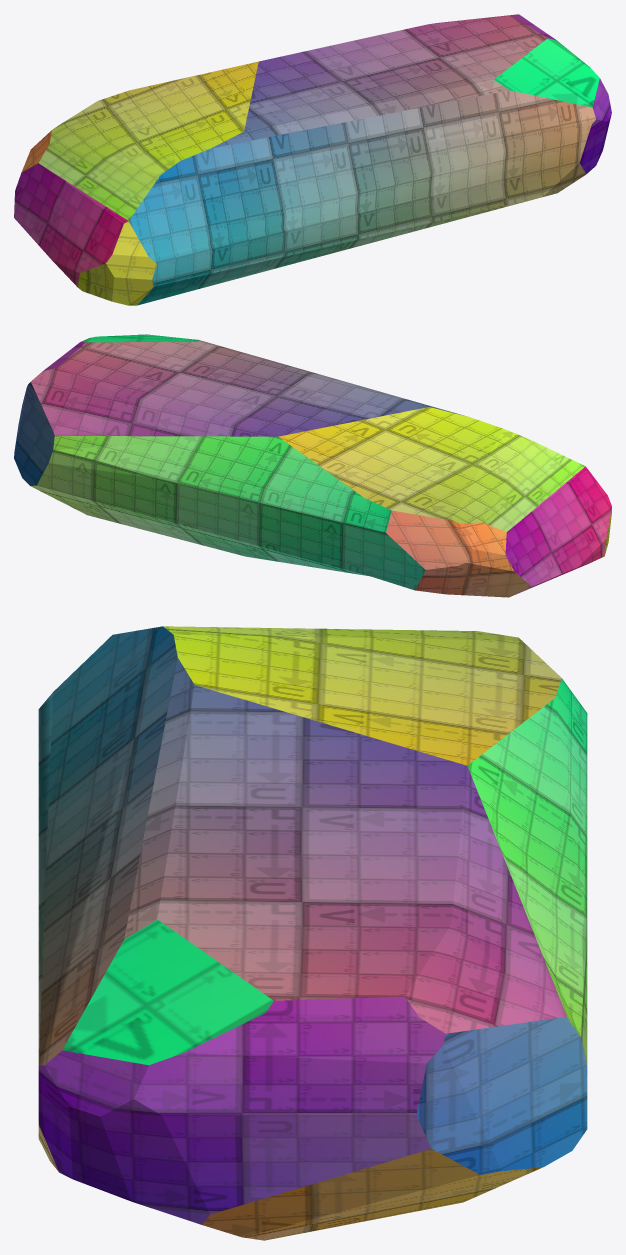
Rendered from Rock4Redo_Hite.obj.
3 renders of one model, top to bottom at view 1: azimuth 30°, elevation 25°; view 2: azimuth 150°, elevation 25°; view 3: azimuth 270°, elevation 25°, orthographic. The views are drawn at different scales.
Visible parts, largest first — view 1: pCube1; view 2: pCube1; view 3: pCube1.
Boxes of the visible parts, bbox=[...] form: pCube1: bbox=[14, 14, 611, 305]; pCube1: bbox=[14, 334, 611, 597]; pCube1: bbox=[38, 626, 587, 1240].
Size of the model in its own units: 21.47 by 4.77 by 9.76.
1 material, 1 textured.
